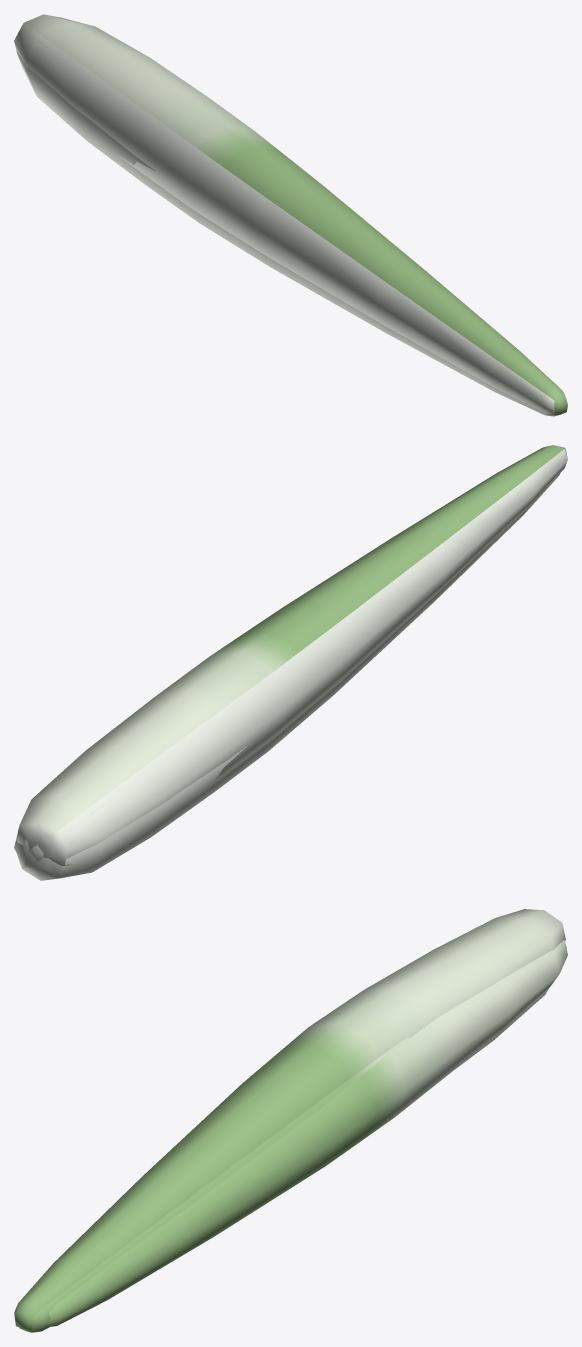
Rendered from takrai.fbx.
3 views of the same model, one above another, from view 1: azimuth 30°, elevation 25°; view 2: azimuth 150°, elevation 25°; view 3: azimuth 330°, elevation 25° (orthographic). The views are drawn at different scales.
Visible parts, largest first — view 1: Cube.001; view 2: Cube.001; view 3: Cube.001.
Boxes of the visible parts, left/top/right/bottom form: Cube.001: left=14, top=14, right=567, bottom=416; Cube.001: left=14, top=445, right=567, bottom=880; Cube.001: left=14, top=909, right=567, bottom=1332.
Size of the model in its own units: 90.89 by 93.24 by 845.
Materials: 1 (1 with a texture image).
